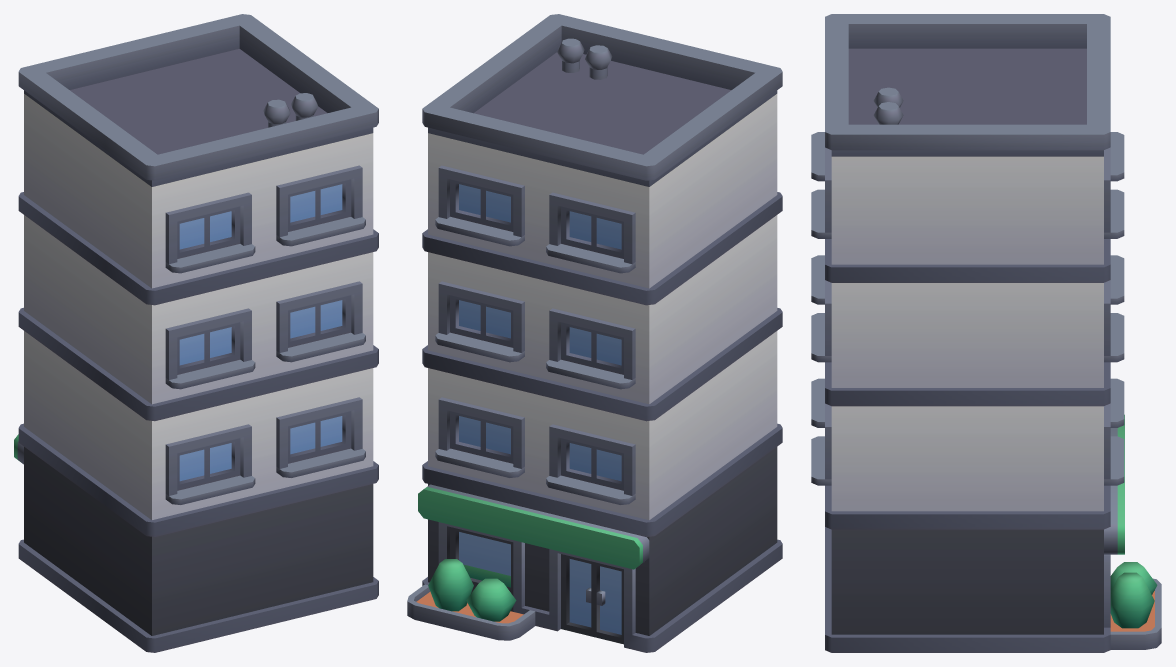
Rendered from building-f.glb.
3 renders of one model, left to right at view 1: azimuth 30°, elevation 25°; view 2: azimuth 150°, elevation 25°; view 3: azimuth 270°, elevation 25°, orthographic. The views are drawn at different scales.
Parts seen in each view (by area): view 1: building-f; view 2: building-f; view 3: building-f.
Part boxes in pixels (x1,y1,x2,y2): building-f: [14, 14, 378, 652]; building-f: [407, 14, 782, 652]; building-f: [811, 14, 1161, 652].
Bounding box in the file's own units: 0.84 × 1.69 × 1.03.
1 material, 1 textured.
